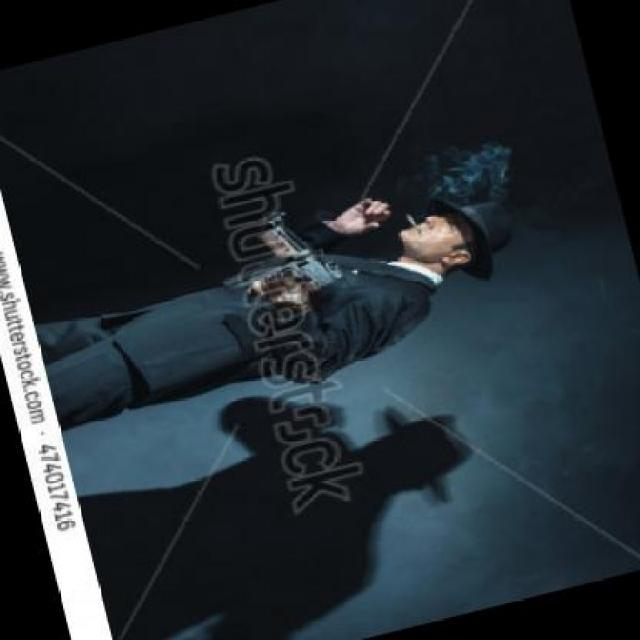cigarette: (402, 212, 420, 234)
